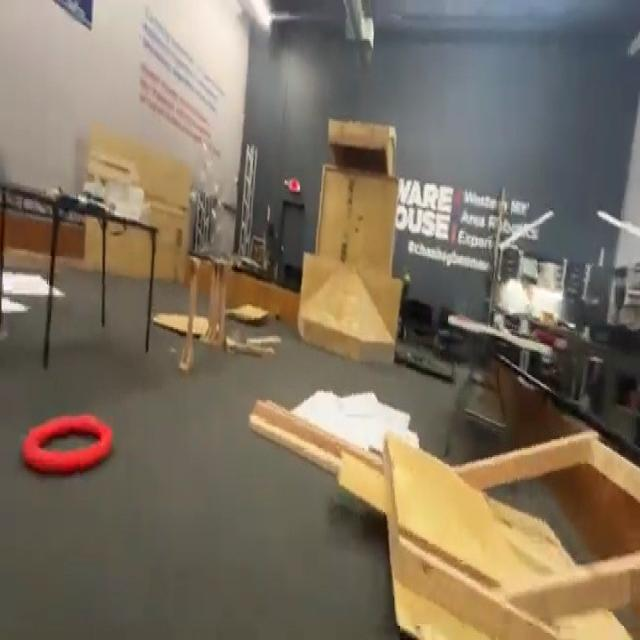note: (20, 414, 114, 474)
